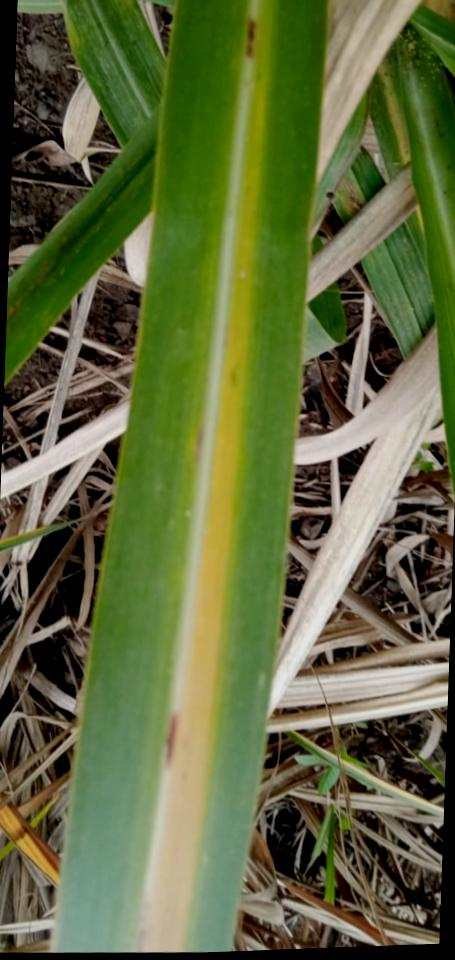RedRot: (165, 711, 180, 774), (244, 14, 256, 59)
Yellow: (141, 277, 250, 951)
